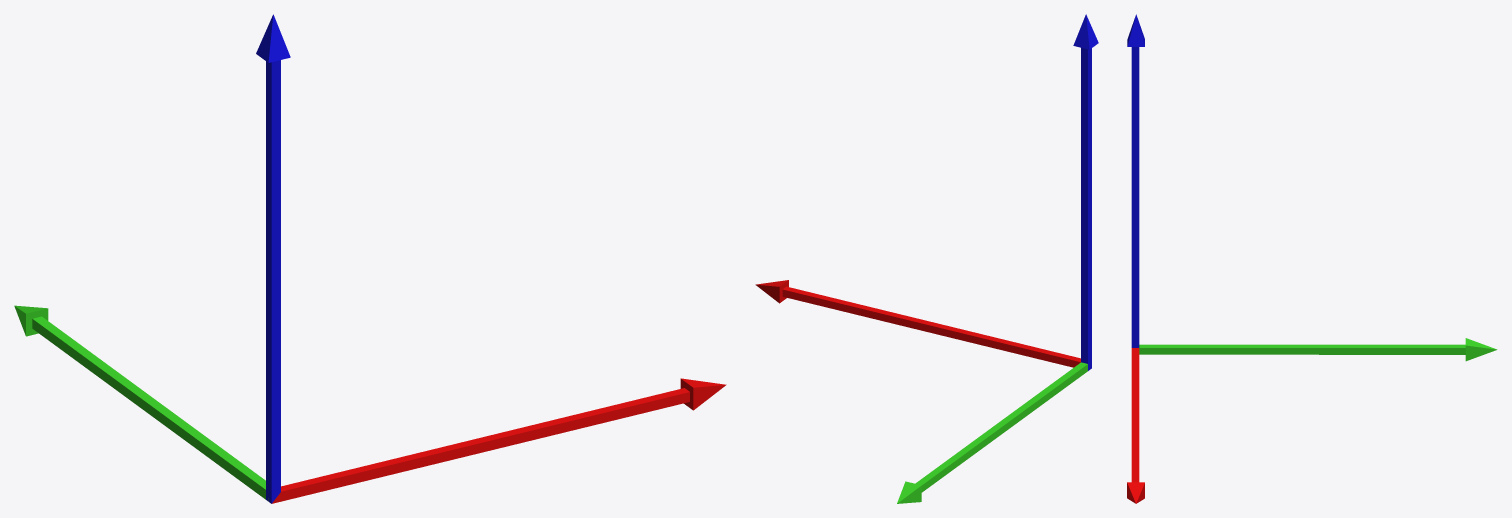
The picture shows the model from 3 angles, left to right: view 1: azimuth 30°, elevation 25°; view 2: azimuth 150°, elevation 25°; view 3: azimuth 270°, elevation 25°; orthographic projection. The views are drawn at different scales.
Parts seen in each view (by area): view 1: Object003, Line002, Object002; view 2: Object003, Line002, Object002; view 3: Object002, Object003, Line002.
Part boxes in pixels (<box>): Object003: <box>256,14,290,503</box>; Line002: <box>272,378,726,503</box>; Object002: <box>14,305,268,501</box>; Object003: <box>1073,14,1098,370</box>; Line002: <box>755,280,1080,367</box>; Object002: <box>897,362,1087,503</box>; Object002: <box>1139,338,1497,361</box>; Object003: <box>1127,14,1144,347</box>; Line002: <box>1127,348,1144,503</box>.
Bounding box in the file's own units: 97.96 × 97.07 × 99.3.
